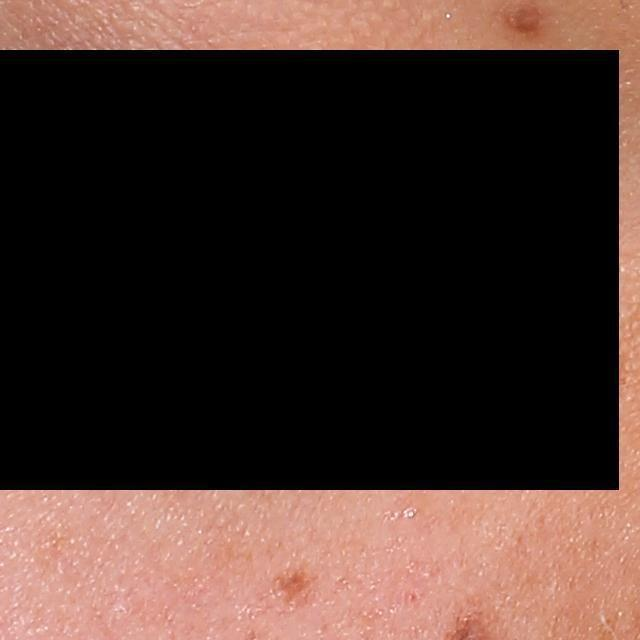melasma: (270, 563, 317, 618), (591, 346, 637, 391)
nevus: (495, 2, 552, 42)
